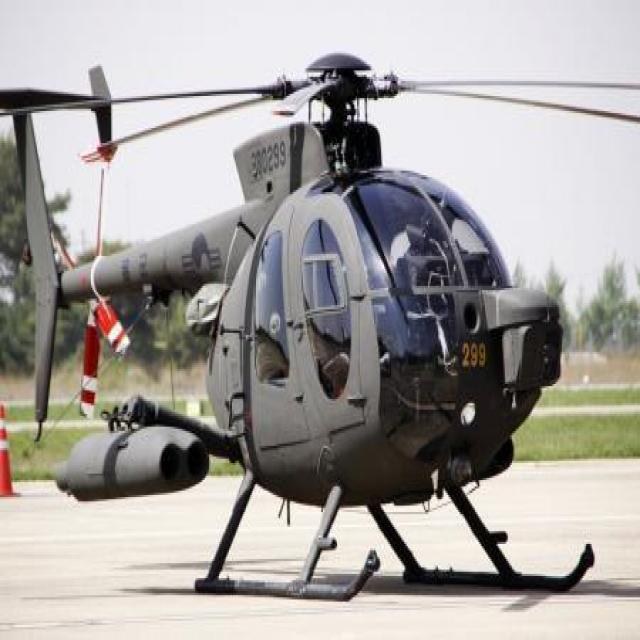MIL_HELO: (3, 52, 640, 604)
